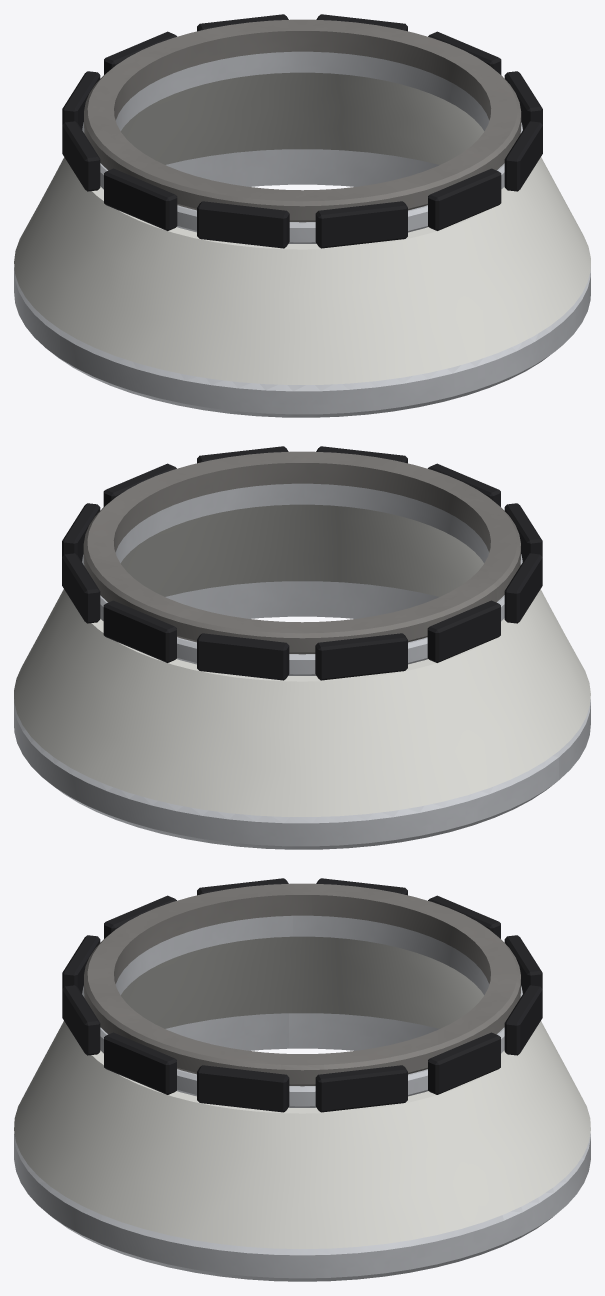
The model's file is ax_struct_16_payload_adapter_s.glb.
3 renders of one model, top to bottom at view 1: azimuth 30°, elevation 25°; view 2: azimuth 150°, elevation 25°; view 3: azimuth 270°, elevation 25°, orthographic.
Visible parts, largest first — view 1: adapter_cone, payload_ring, base_ring, clamp_band, clamp_ring_lower; view 2: adapter_cone, payload_ring, base_ring, clamp_band, clamp_ring_lower; view 3: adapter_cone, payload_ring, base_ring, clamp_band, clamp_ring_lower.
Part boxes in pixels (bbox=[...]): adapter_cone: bbox=[14, 72, 590, 384]; payload_ring: bbox=[84, 19, 521, 222]; base_ring: bbox=[14, 149, 590, 417]; clamp_band: bbox=[62, 14, 542, 248]; clamp_ring_lower: bbox=[82, 51, 522, 243]; adapter_cone: bbox=[14, 504, 590, 816]; payload_ring: bbox=[83, 451, 520, 654]; base_ring: bbox=[14, 581, 590, 849]; clamp_band: bbox=[62, 446, 542, 680]; clamp_ring_lower: bbox=[82, 483, 522, 675]; adapter_cone: bbox=[14, 936, 590, 1248]; payload_ring: bbox=[84, 883, 520, 1086]; base_ring: bbox=[14, 1013, 590, 1281]; clamp_band: bbox=[62, 878, 542, 1112]; clamp_ring_lower: bbox=[82, 915, 522, 1107].
Size of the model in its own units: 1.25 by 0.45 by 1.25.
Materials: 4 (2 with a texture image).
